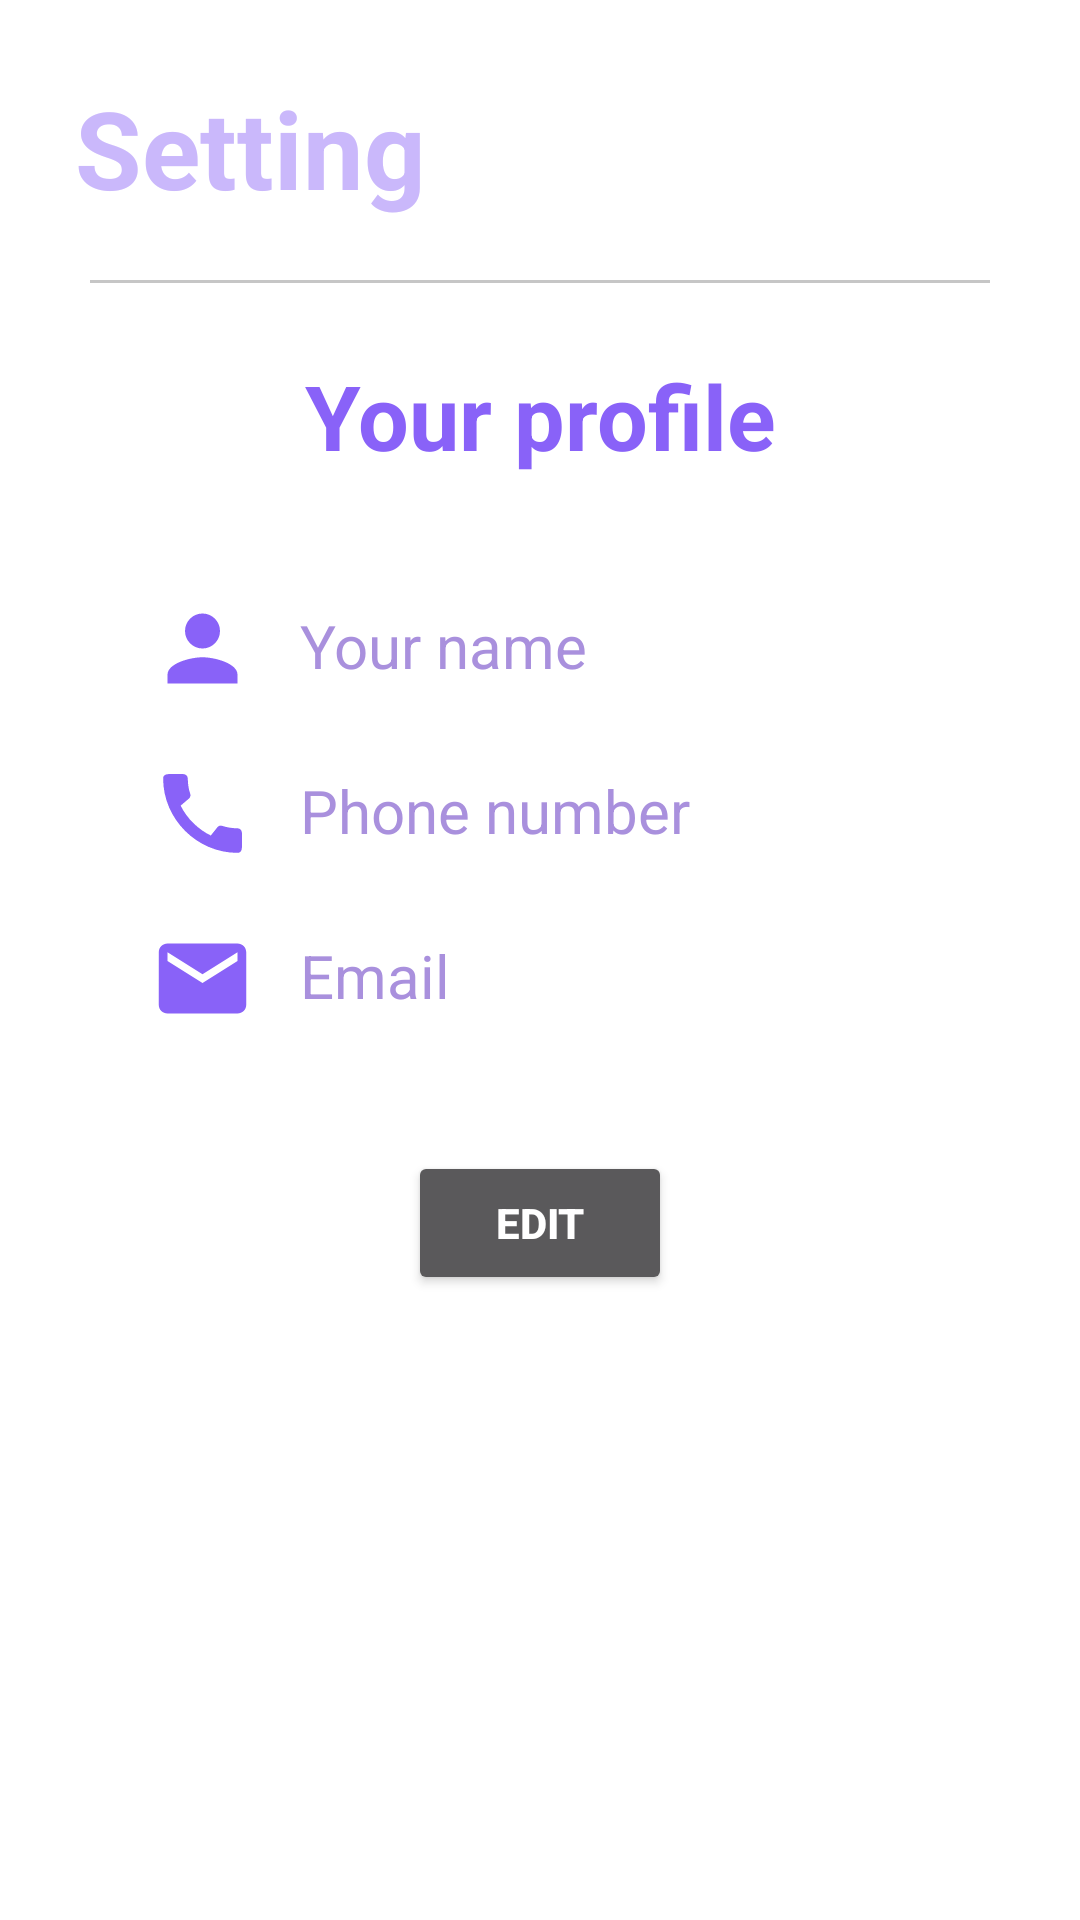

Icons on this 1080x1920 Android screen, each with the point to tap as (x,y):
call: (202,813)
person: (202,648)
